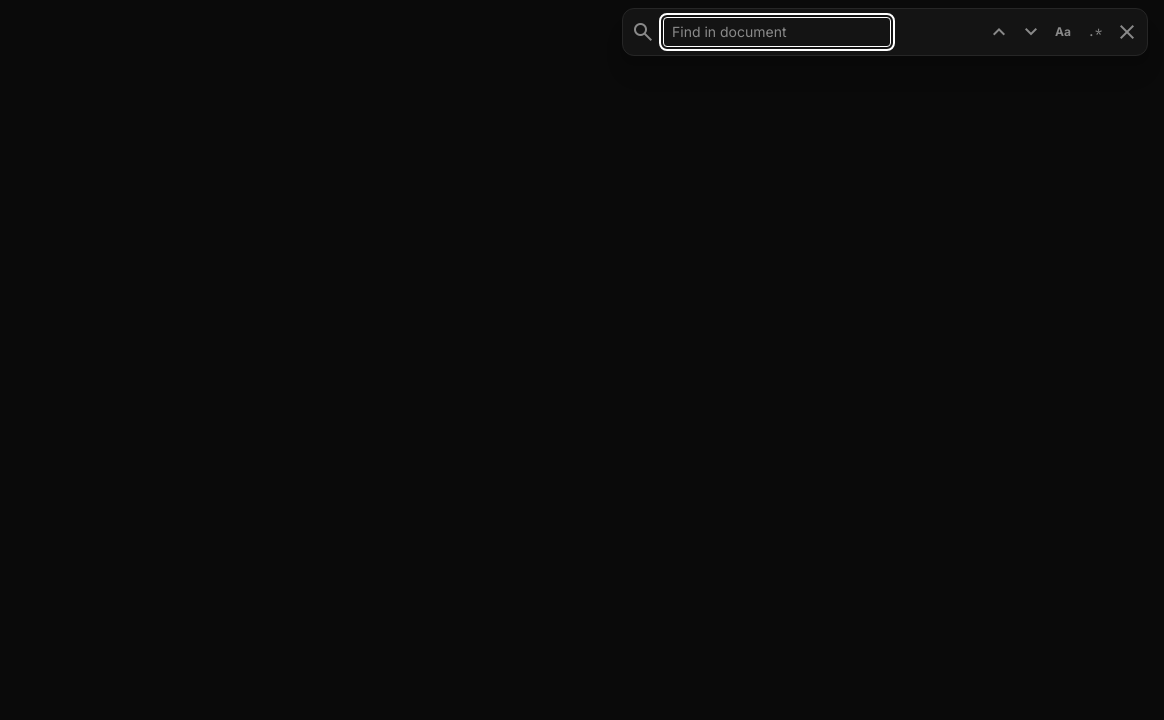
Test: PreviewFindBar options › ignores case by default and honours Match case when pressed
Type "alpha" into the field labelled "Find in document".
click(777, 32); type("alpha")  # box [663,17,891,47]
Wait 200 ms
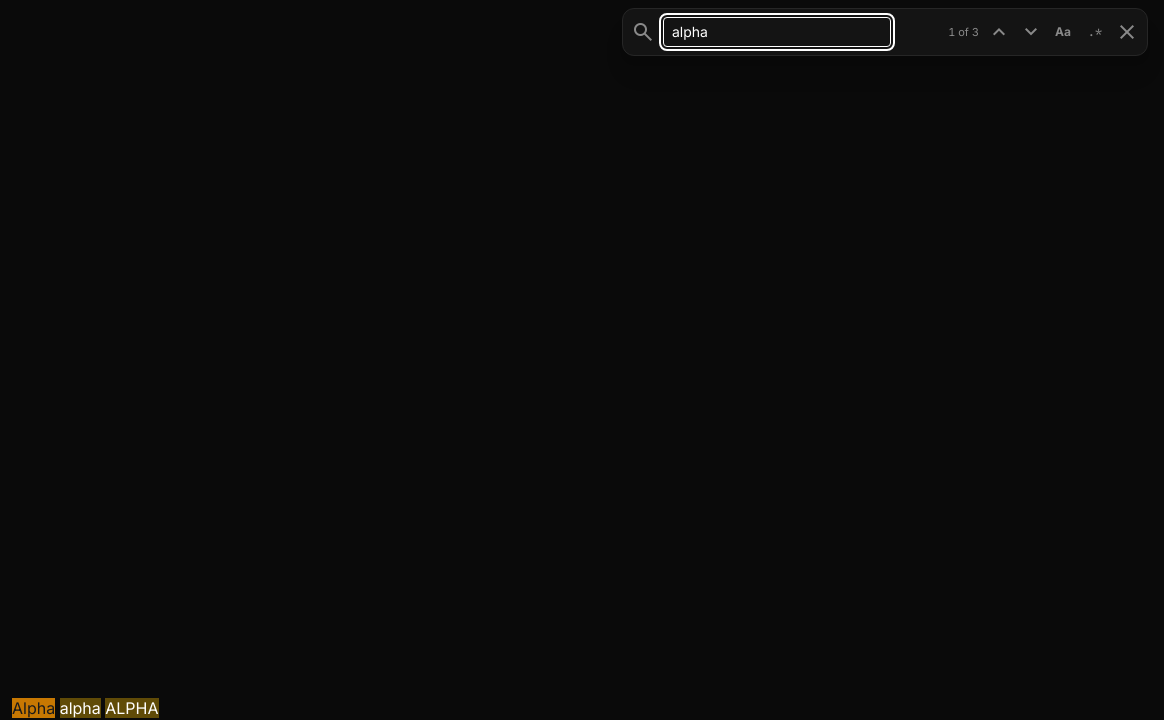
Expected: the element showing "1 of 3 Aa .*" is shown, [622,8,1148,56]
Click the button with aria-label "Match case".
click(1063, 32)  # box [1051,20,1075,44]
Wait 200 ms
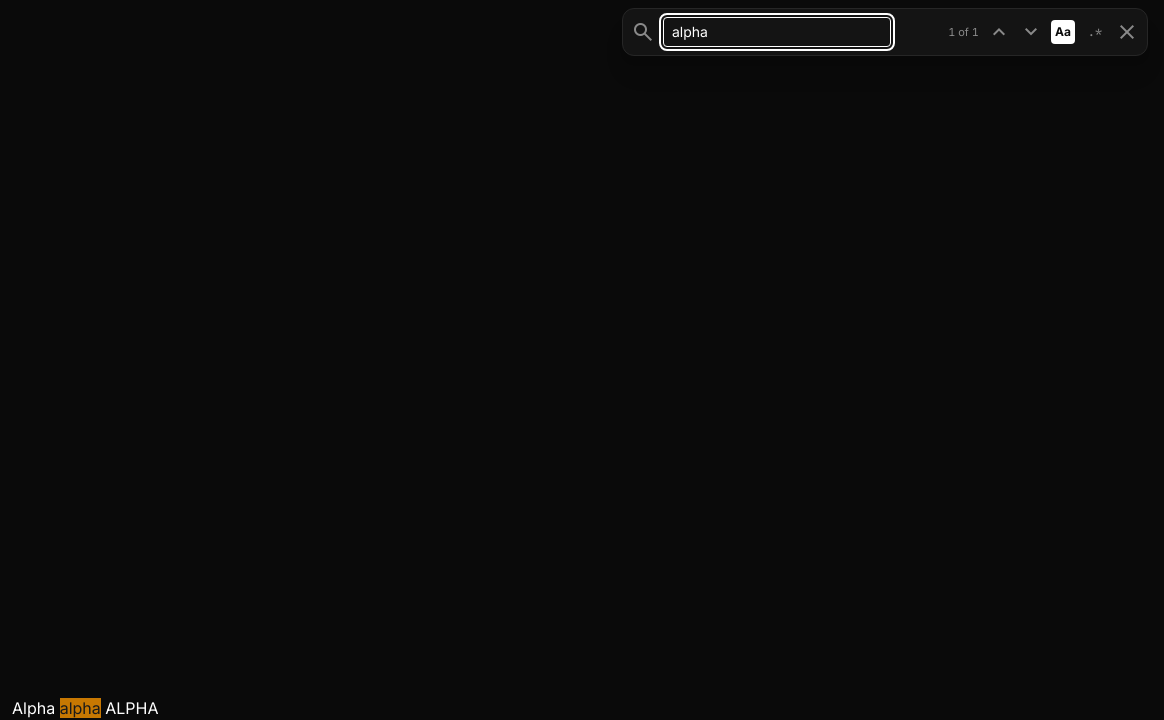
Expected: the element showing "1 of 1 Aa .*" is shown, [622,8,1148,56]
